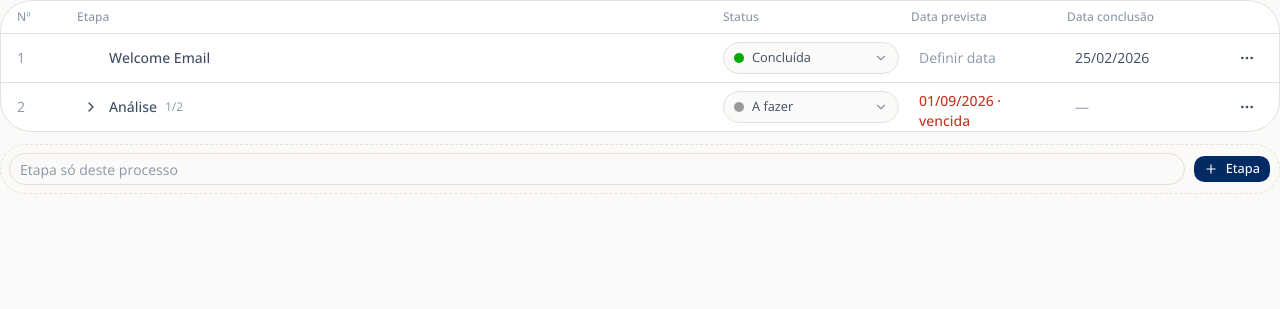
Scenario: EtapasDoProcesso › a seta abre e fecha o grupo
Click the button named "Abrir Análise": click(91, 107) [77, 93, 105, 121]
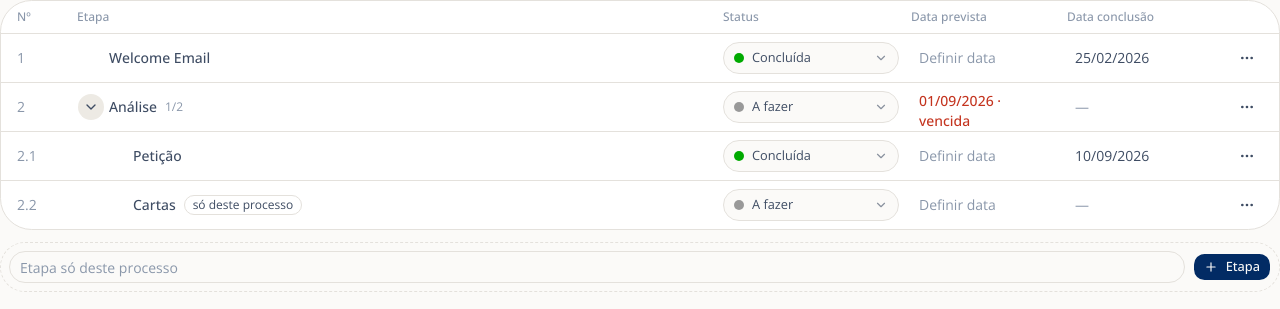
Check: the text "Petição" is shown, box [133, 146, 182, 166]
Check: the text "só deste processo" is shown, box [184, 195, 302, 215]
Click the button named "Fechar Análise": click(91, 107) [77, 93, 105, 121]
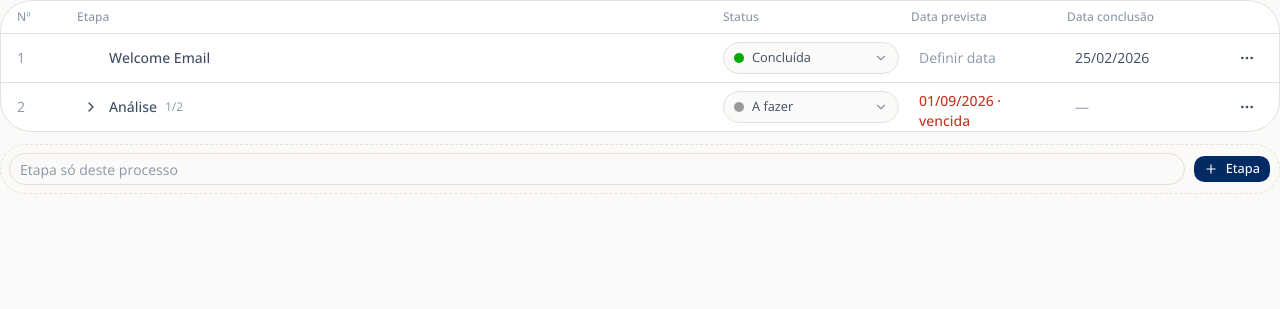
Check: the text "Petição" is gone
